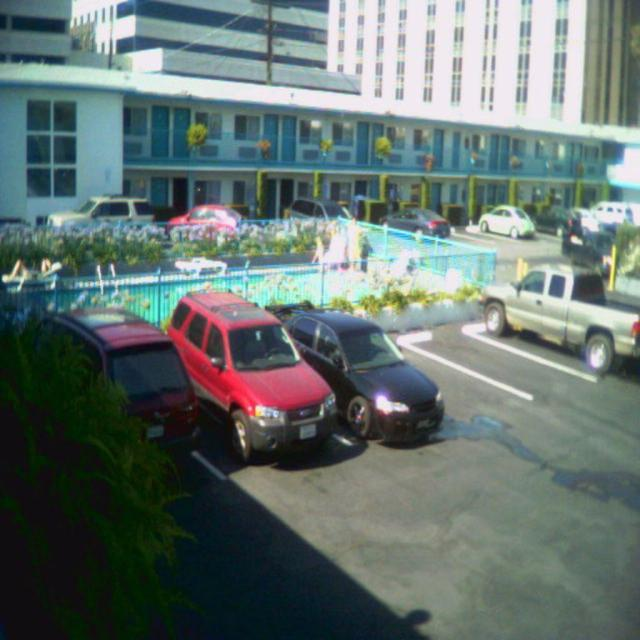car: (154, 299, 348, 464), (34, 299, 200, 463), (276, 302, 442, 444), (384, 198, 450, 244), (52, 194, 150, 223), (286, 195, 355, 235), (167, 200, 243, 235), (478, 200, 535, 242)
